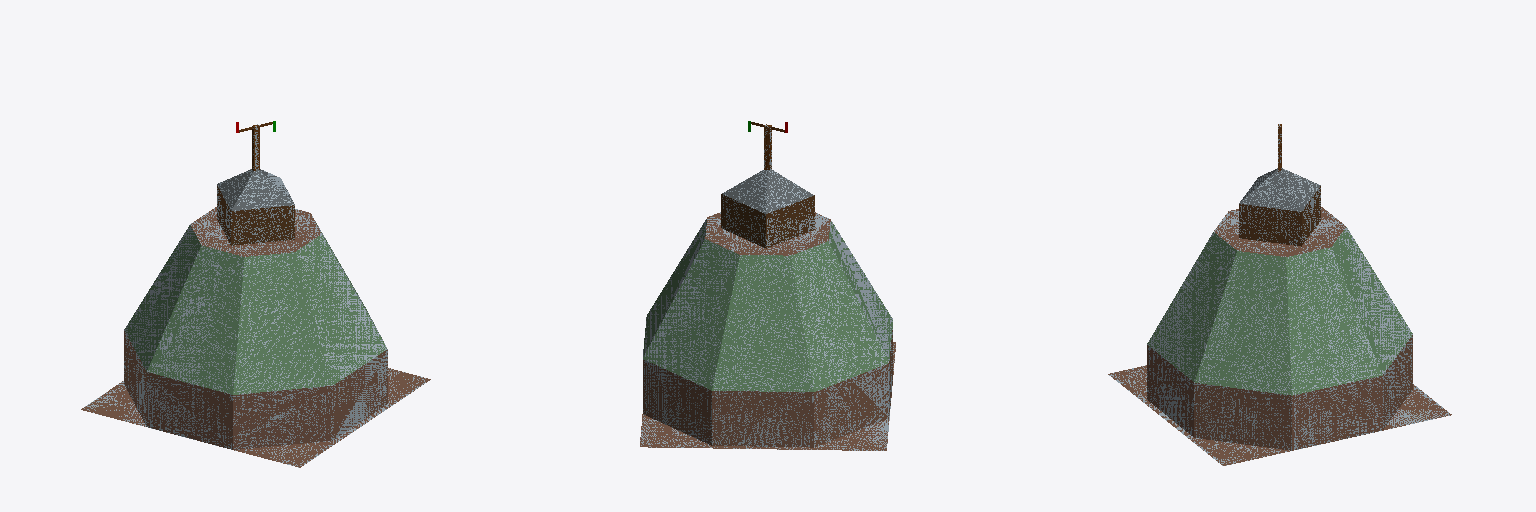
3 views of the same model, side by side, from view 1: azimuth 30°, elevation 25°; view 2: azimuth 150°, elevation 25°; view 3: azimuth 270°, elevation 25° (orthographic).
Parts seen in each view (by area): view 1: Mesh1 Tour_Chappe Model; view 2: Mesh1 Tour_Chappe Model; view 3: Mesh1 Tour_Chappe Model.
Boxes of the visible parts, <box> form: Mesh1 Tour_Chappe Model: <box>81,121,430,467</box>; Mesh1 Tour_Chappe Model: <box>640,121,895,450</box>; Mesh1 Tour_Chappe Model: <box>1108,124,1451,465</box>.
Size of the model in its own units: 22.35 by 20.1 by 22.67.
9 materials, 1 textured.